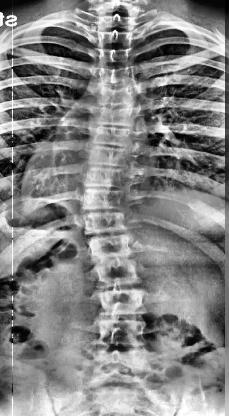Vertebrae: (88, 372, 152, 402), (91, 346, 153, 376), (94, 317, 150, 349), (89, 257, 144, 289), (94, 287, 150, 317), (82, 232, 138, 260), (78, 208, 130, 236), (80, 186, 128, 212), (92, 122, 136, 150), (84, 144, 129, 170), (79, 168, 127, 191), (96, 62, 138, 88), (96, 84, 138, 108), (96, 104, 138, 128), (94, 29, 136, 50), (95, 46, 135, 66), (96, 14, 138, 32), (97, 1, 141, 17)
